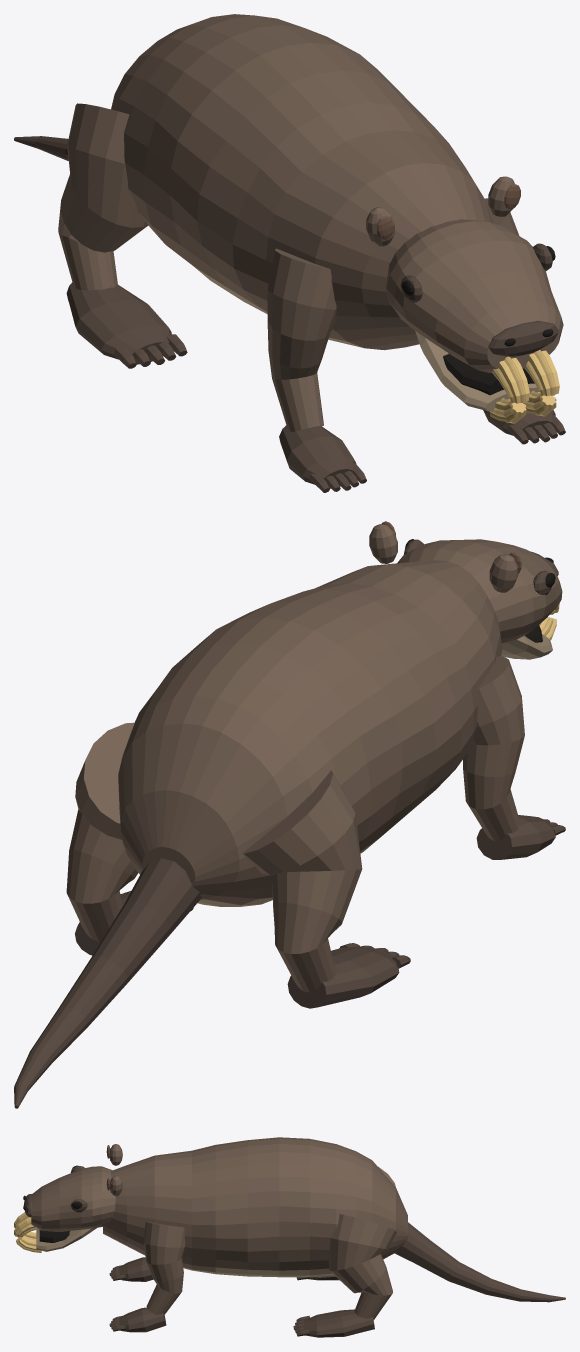
3 renders of one model, top to bottom at view 1: azimuth 30°, elevation 25°; view 2: azimuth 150°, elevation 25°; view 3: azimuth 270°, elevation 25°, orthographic. The views are drawn at different scales.
Visible parts, largest first — view 1: barrel_torso_neck, broad_zygomatic_head, hindlimb_L, forelimb_L, hindfoot_L, forefoot_L, lower_jaw, nose_pad, hind_five_digits_L, oral_recess, upper_fluted_incisor_L, upper_fluted_incisor_R (+8 smaller); view 2: barrel_torso_neck, hindlimb_L, narrow_tapered_tail, hindlimb_R, forelimb_L, broad_zygomatic_head, hindfoot_L, forefoot_L, lower_jaw, ear_R, ear_L; view 3: barrel_torso_neck, hindlimb_R, broad_zygomatic_head, narrow_tapered_tail, forelimb_R, hindfoot_R, forefoot_R, forefoot_L, lower_jaw, oral_recess, upper_fluted_incisor_R.
Boxes of the visible parts, x1,y1,x2,y2 form: barrel_torso_neck: (111, 14, 492, 350); broad_zygomatic_head: (386, 219, 563, 372); hindlimb_L: (58, 103, 148, 290); forelimb_L: (267, 248, 336, 432); hindfoot_L: (66, 282, 171, 364); forefoot_L: (279, 425, 356, 488); lower_jaw: (415, 331, 539, 411); nose_pad: (488, 320, 558, 356); hind_five_digits_L: (114, 334, 187, 368); oral_recess: (443, 353, 534, 395); upper_fluted_incisor_L: (492, 356, 529, 403); upper_fluted_incisor_R: (524, 350, 559, 396); barrel_torso_neck: (118, 560, 502, 906); hindlimb_L: (242, 770, 362, 992); narrow_tapered_tail: (14, 858, 201, 1108); hindlimb_R: (66, 722, 137, 941); forelimb_L: (463, 656, 524, 841); broad_zygomatic_head: (397, 539, 562, 643); hindfoot_L: (287, 947, 399, 1008); forefoot_L: (476, 815, 555, 859); lower_jaw: (501, 634, 552, 659); ear_R: (369, 524, 397, 563); ear_L: (489, 554, 518, 592); barrel_torso_neck: (103, 1137, 407, 1277); hindlimb_R: (328, 1214, 396, 1319); broad_zygomatic_head: (31, 1166, 115, 1231); narrow_tapered_tail: (394, 1222, 565, 1302); forelimb_R: (143, 1222, 185, 1315); hindfoot_R: (303, 1309, 374, 1337); forefoot_R: (119, 1307, 166, 1332); forefoot_L: (119, 1257, 153, 1281); lower_jaw: (36, 1227, 97, 1251); oral_recess: (39, 1230, 69, 1242); upper_fluted_incisor_R: (14, 1217, 38, 1237).
Size of the model in its own units: 0.6738 by 0.67 by 2.08.
